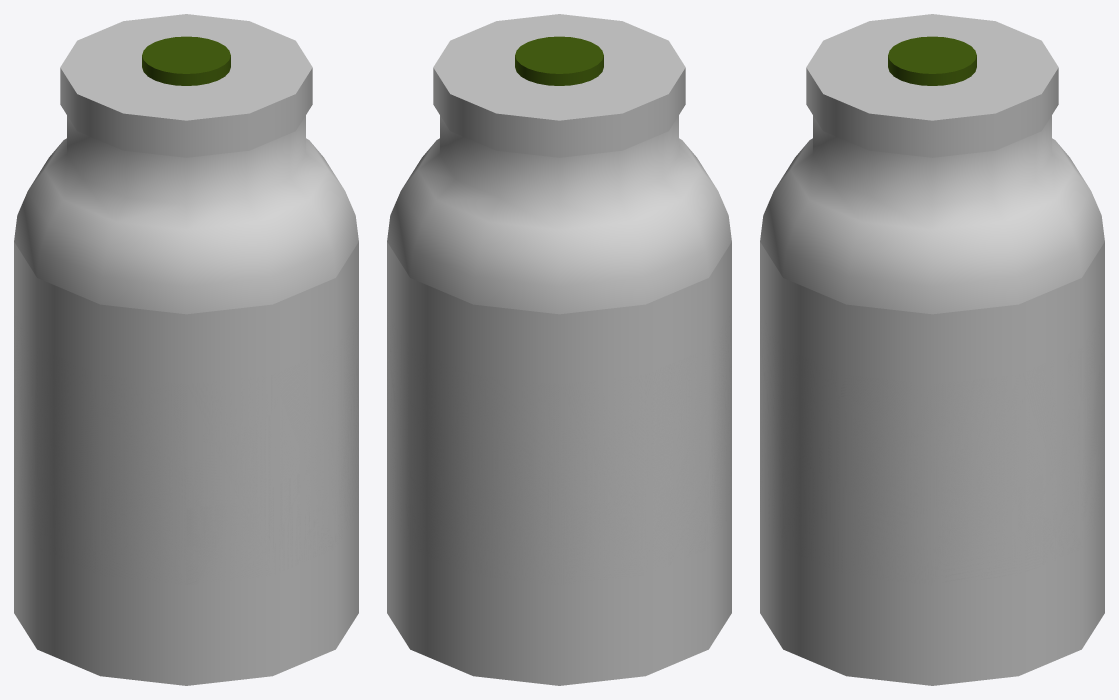
3 renders of one model, left to right at view 1: azimuth 30°, elevation 25°; view 2: azimuth 150°, elevation 25°; view 3: azimuth 270°, elevation 25°, orthographic.
Visible parts, largest first — view 1: mesh2_mesh2-geometry, mesh1_mesh1-geometry; view 2: mesh2_mesh2-geometry, mesh1_mesh1-geometry; view 3: mesh2_mesh2-geometry, mesh1_mesh1-geometry.
Part boxes in pixels (box(x1,y1,x2,y2)): mesh2_mesh2-geometry: box(14, 242, 358, 685); mesh1_mesh1-geometry: box(14, 14, 358, 314); mesh2_mesh2-geometry: box(387, 242, 731, 685); mesh1_mesh1-geometry: box(387, 14, 731, 314); mesh2_mesh2-geometry: box(760, 242, 1104, 685); mesh1_mesh1-geometry: box(760, 14, 1104, 314).
Bounding box in the file's own units: 0.4392 × 0.7837 × 0.4392.
